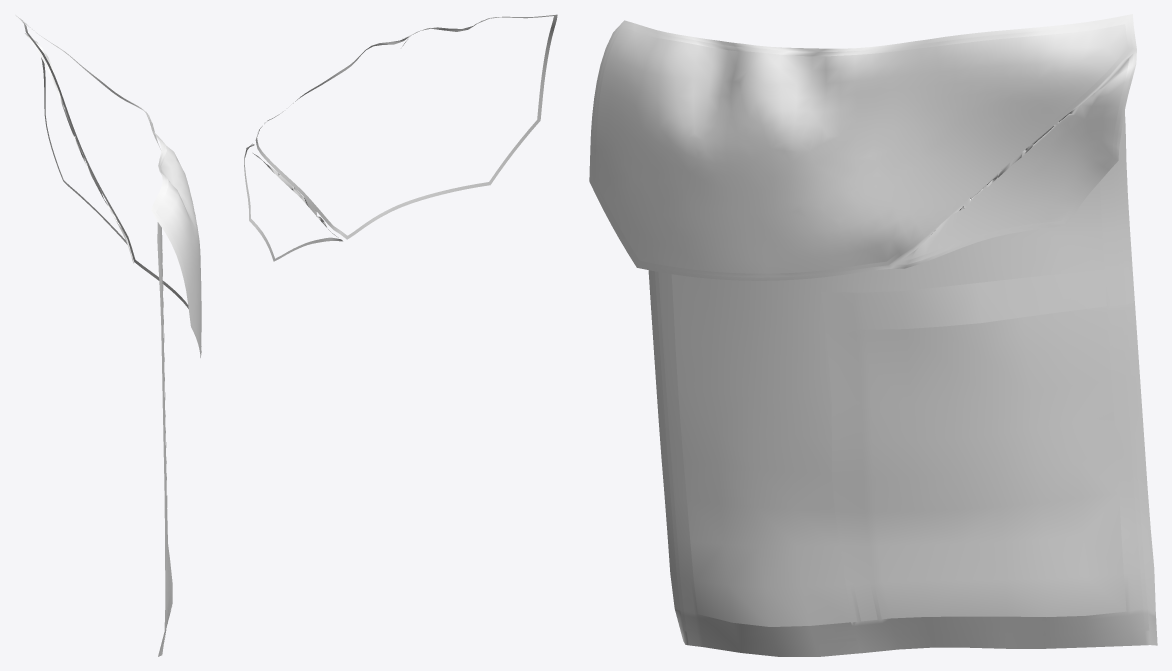
File: Pants_Pocket_Right_V1.glb
3 views of the same model, side by side, from view 1: azimuth 30°, elevation 25°; view 2: azimuth 150°, elevation 25°; view 3: azimuth 270°, elevation 25° (orthographic). The views are drawn at different scales.
Parts seen in each view (by area): view 1: Pocket_RIght.001, Pants_Rope_Pocket_Right.001; view 2: Pants_Rope_Pocket_Right.001; view 3: Pocket_RIght.001, Pants_Rope_Pocket_Right.001.
Part boxes in pixels (bbox=[...]): Pocket_RIght.001: bbox=[15, 15, 201, 656]; Pants_Rope_Pocket_Right.001: bbox=[20, 18, 201, 641]; Pants_Rope_Pocket_Right.001: bbox=[244, 14, 557, 261]; Pocket_RIght.001: bbox=[589, 14, 1157, 656]; Pants_Rope_Pocket_Right.001: bbox=[592, 19, 1149, 644].
Size of the model in its own units: 0.0609 by 0.2908 by 0.2312.
2 materials, 2 textured.
